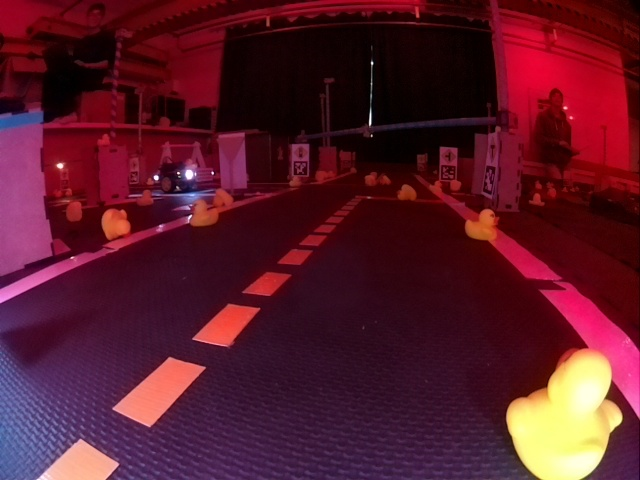Duckie: (506, 347, 621, 472), (466, 211, 500, 240), (102, 208, 130, 238), (192, 202, 219, 225)
Duckiebot: (157, 164, 215, 193)
Intersection sign: (488, 136, 497, 164), (441, 148, 457, 163)
QR code: (481, 165, 497, 195), (293, 160, 309, 176), (440, 165, 455, 181)
Signal sign: (293, 145, 309, 160)
